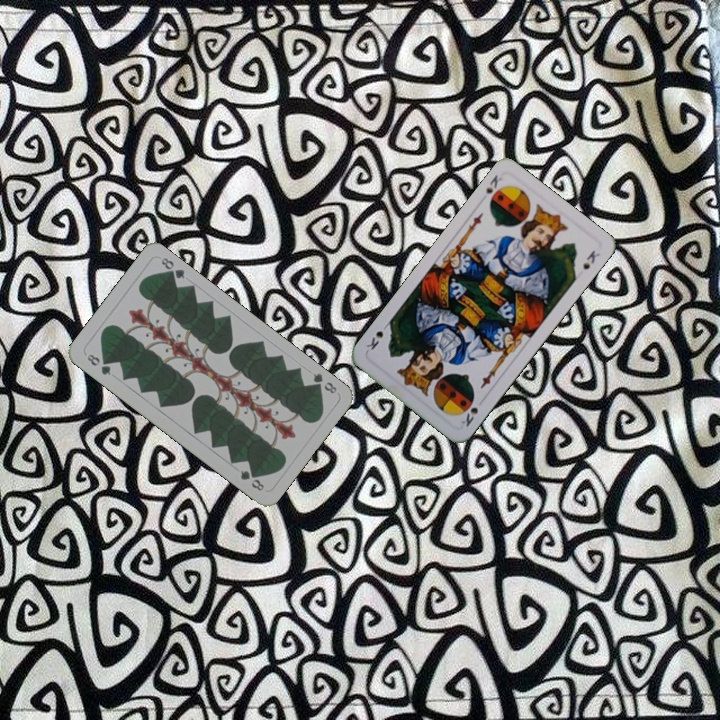G8: (83, 350, 113, 378), (308, 369, 339, 396)
SK: (457, 403, 481, 430), (481, 171, 505, 196)
